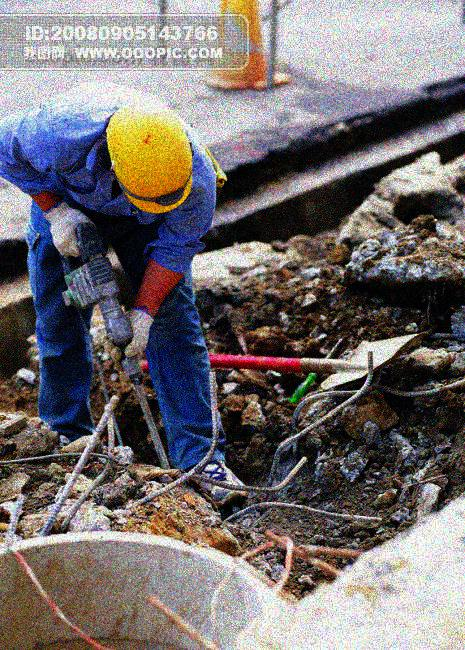helmet: (100, 101, 201, 218)
